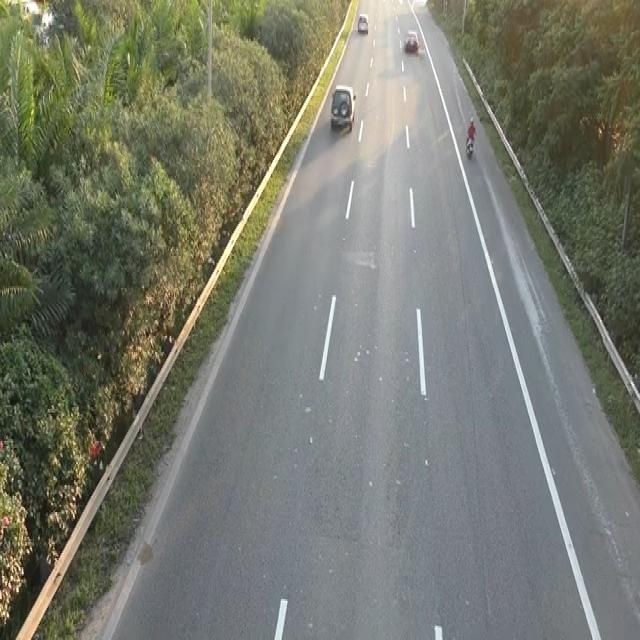bus: (403, 27, 419, 53), (356, 11, 369, 34)
car: (328, 80, 359, 139)
minibus: (464, 130, 475, 158)
